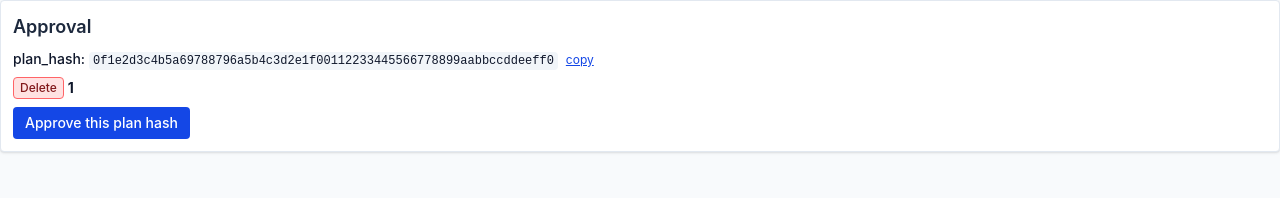
Test: ApprovePanel › shows the full plan hash and sends it back exactly as received, with auth headers
Check: the text with test id "hash-plan_hash" reads "0f1e2d3c4b5a69788796a5b4c3d2e1f00112233445566778899aabbccddeeff0", box [93,54,554,68]
What coordinates should you click on to do the following:
click the button "Approve this plan hash"
I would click on:
 (101, 123)
Its box is [13,107,190,139].
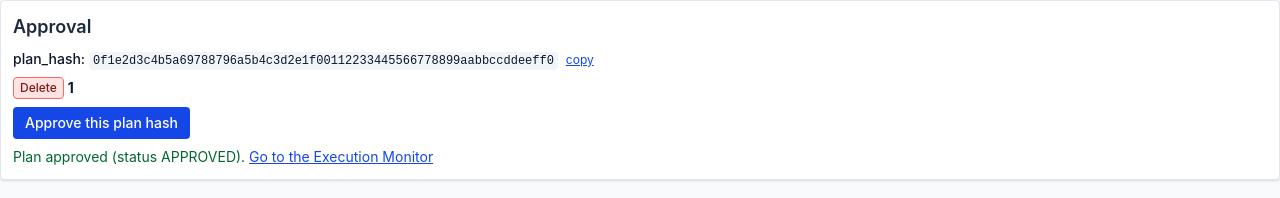
Check: the text "Plan approved (status APPROVED). Go to the Execution Monitor" is shown, box [13,148,433,165]
